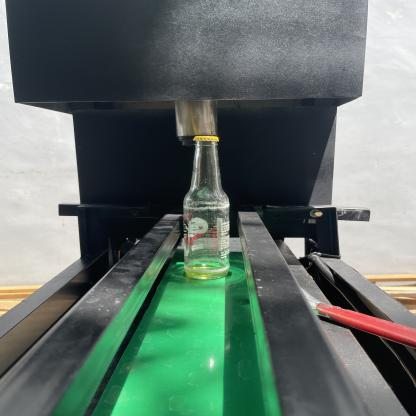Can: (179, 134, 236, 283)
